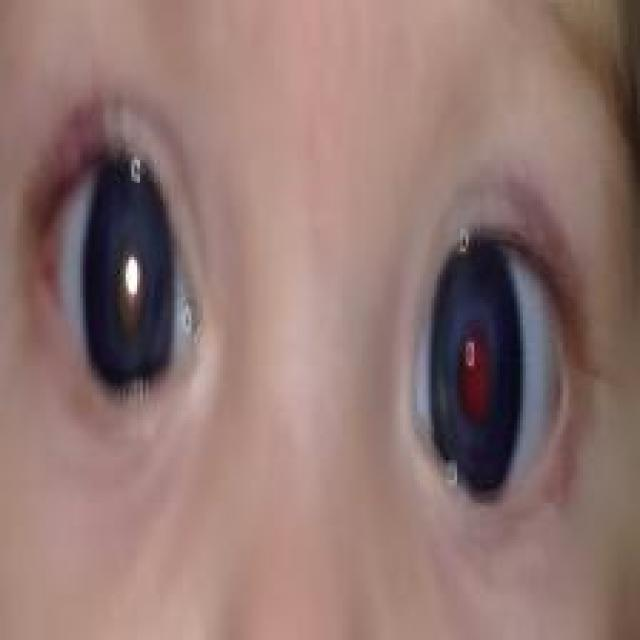reflexo-alterado: (32, 121, 205, 416)
reflexo-normal: (406, 197, 564, 501)
